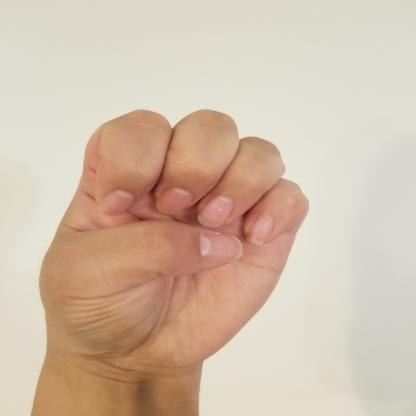E: (32, 104, 316, 380)
